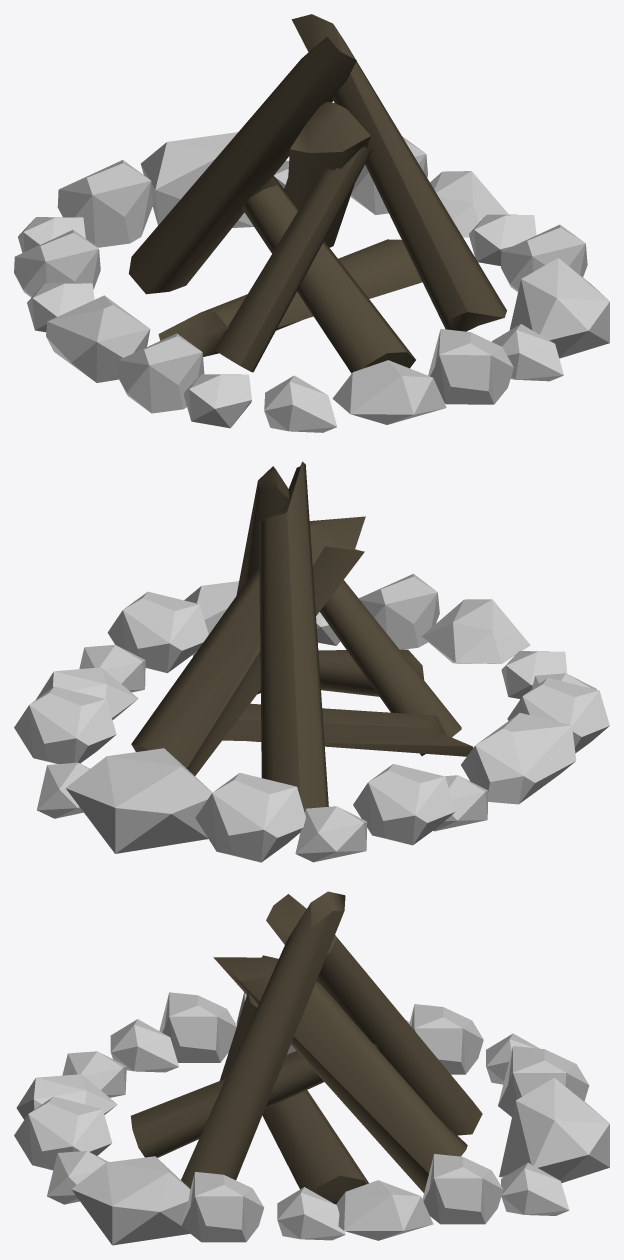
The model's file is fire pit.fbx.
3 renders of one model, top to bottom at view 1: azimuth 30°, elevation 25°; view 2: azimuth 150°, elevation 25°; view 3: azimuth 270°, elevation 25°, orthographic. The views are drawn at different scales.
Visible parts, largest first — view 1: cube2, Platonic_18, Platonic, Platonic_1; view 2: cube2, Platonic_18, Platonic, Platonic_1; view 3: cube2, Platonic_18, Platonic, Platonic_1.
Boxes of the visible parts, box(x1,y1,x2,y2) form: cube2: box(128, 14, 506, 373); Platonic_18: box(14, 132, 609, 432); Platonic: box(18, 136, 563, 428); Platonic_1: box(274, 160, 587, 404); cube2: box(131, 461, 472, 812); Platonic_18: box(36, 581, 576, 862); Platonic: box(14, 599, 609, 862); Platonic_1: box(37, 573, 439, 818); cube2: box(130, 891, 482, 1204); Platonic_18: box(62, 992, 609, 1245); Platonic: box(16, 992, 539, 1224); Platonic_1: box(14, 1096, 569, 1242).
Size of the model in its own units: 20.17 by 11.64 by 22.53.
